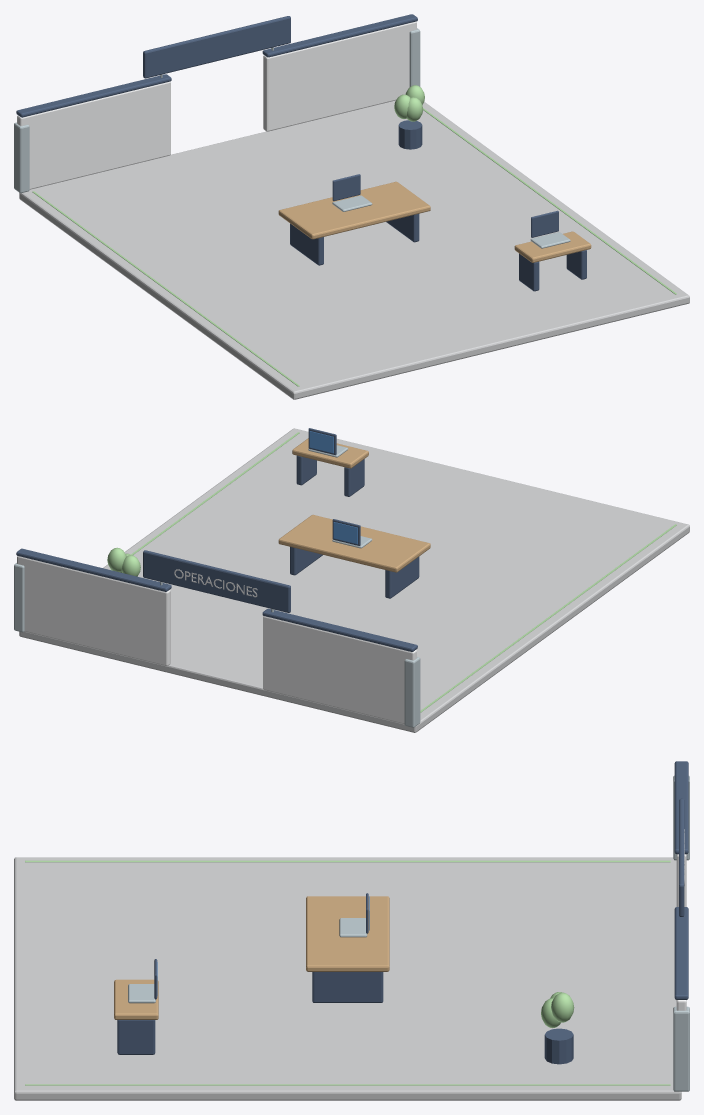
The model's file is zone-office.glb.
3 views of the same model, one above another, from view 1: azimuth 30°, elevation 25°; view 2: azimuth 150°, elevation 25°; view 3: azimuth 270°, elevation 25° (orthographic). The views are drawn at different scales.
Parts seen in each view (by area): view 1: Floor.001, Back wall.001, Section plaque.001, desk.001, Display, Plaque support.001, Display.001, Floor border.001, work-desk.001, Leaves, Planter; view 2: Floor.001, Back wall.001, Section plaque.001, desk.001, Plaque support.001, Display, Display.001, Floor border.001, work-desk.001, Leaves; view 3: Floor.001, desk.001, Floor border.001, Section plaque.001, Display, Plaque support.001, Display.001, work-desk.001, Planter, Leaves, Laptop, Laptop.001.
Boxes of the visible parts, x1,y1,x2,y2 form: Floor.001: [19, 100, 689, 399]; Back wall.001: [17, 21, 416, 189]; Section plaque.001: [16, 14, 417, 117]; desk.001: [278, 181, 430, 239]; Display: [290, 174, 419, 265]; Plaque support.001: [14, 28, 420, 193]; Display.001: [519, 210, 586, 291]; Floor border.001: [32, 108, 676, 386]; work-desk.001: [514, 231, 591, 262]; Leaves: [394, 85, 424, 121]; Planter: [398, 120, 422, 149]; Floor.001: [19, 428, 689, 732]; Back wall.001: [17, 556, 416, 724]; Section plaque.001: [16, 548, 417, 651]; desk.001: [278, 514, 430, 572]; Plaque support.001: [14, 563, 420, 727]; Display: [290, 519, 419, 598]; Display.001: [296, 428, 364, 496]; Floor border.001: [110, 432, 676, 712]; work-desk.001: [292, 438, 368, 468]; Leaves: [107, 547, 140, 576]; Floor.001: [14, 857, 681, 1100]; desk.001: [306, 896, 389, 971]; Floor border.001: [25, 860, 670, 1085]; Section plaque.001: [674, 761, 688, 999]; Display: [312, 893, 383, 1002]; Plaque support.001: [673, 775, 689, 1091]; Display.001: [117, 959, 157, 1054]; work-desk.001: [114, 979, 158, 1019]; Planter: [544, 1028, 573, 1064]; Leaves: [541, 992, 574, 1028]; Laptop: [339, 918, 367, 937]; Laptop.001: [128, 984, 155, 1003].
Size of the model in its own units: 10.09 by 2.82 by 12.15.
